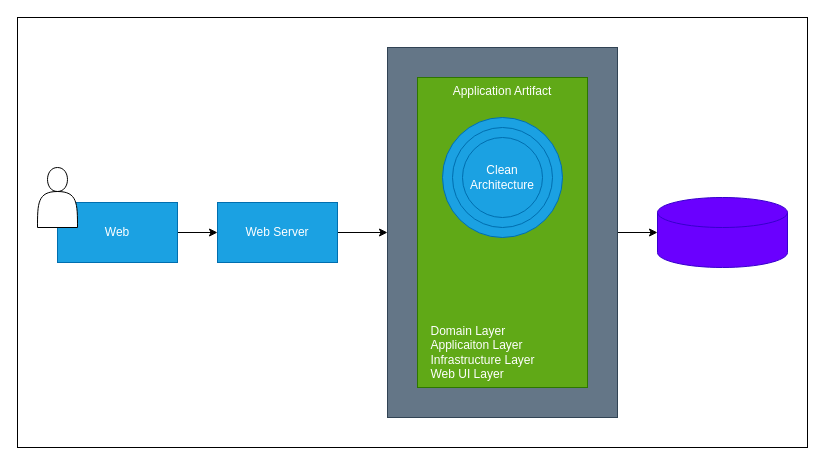
This 825x465 diagram has some shape labels left out. The shapes that lost their labels are listed below. From the top down, each one's box as (x1, y1, x2, y2) in pixels, then its label:
(36, 166, 78, 228): Client
(656, 196, 788, 268): RDBMS
